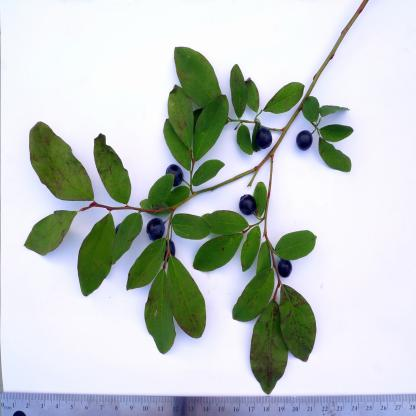Blueberry leaf: (148, 254, 215, 369), (173, 204, 255, 280), (26, 118, 95, 204), (170, 36, 225, 112), (154, 85, 200, 168), (78, 211, 119, 300), (90, 130, 135, 203), (192, 85, 231, 169), (22, 202, 79, 258), (120, 235, 169, 293), (265, 219, 322, 267), (315, 124, 361, 182), (231, 265, 275, 325), (106, 210, 150, 268), (263, 78, 307, 117), (228, 58, 252, 119), (236, 123, 255, 164)
